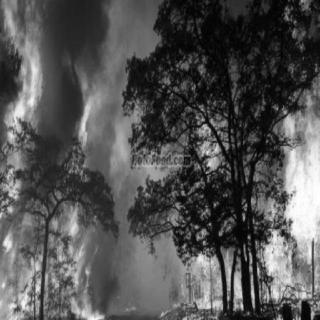Fire: (1, 0, 115, 317), (157, 88, 317, 312)
